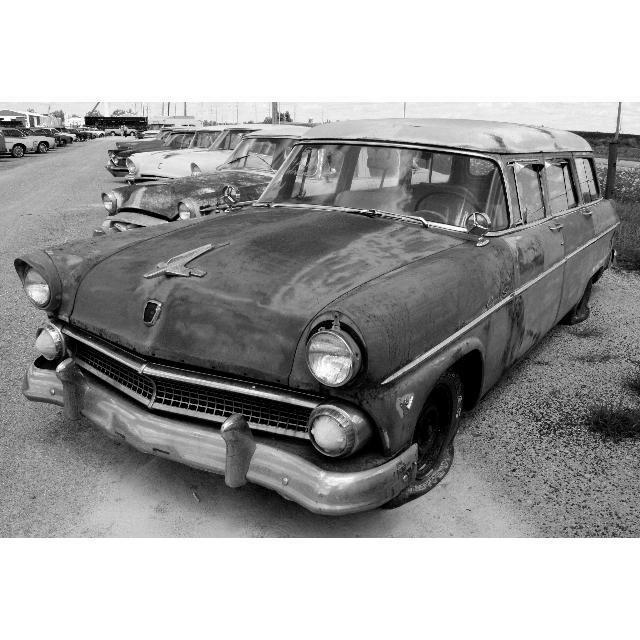bonnet-dent: (151, 203, 390, 311)
doorouter-dent: (518, 232, 568, 328)
fender-dent: (412, 254, 511, 361)
front-bumper-dent: (39, 359, 274, 479)
